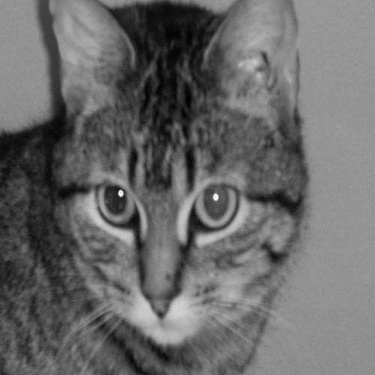cat: (1, 7, 327, 370)
